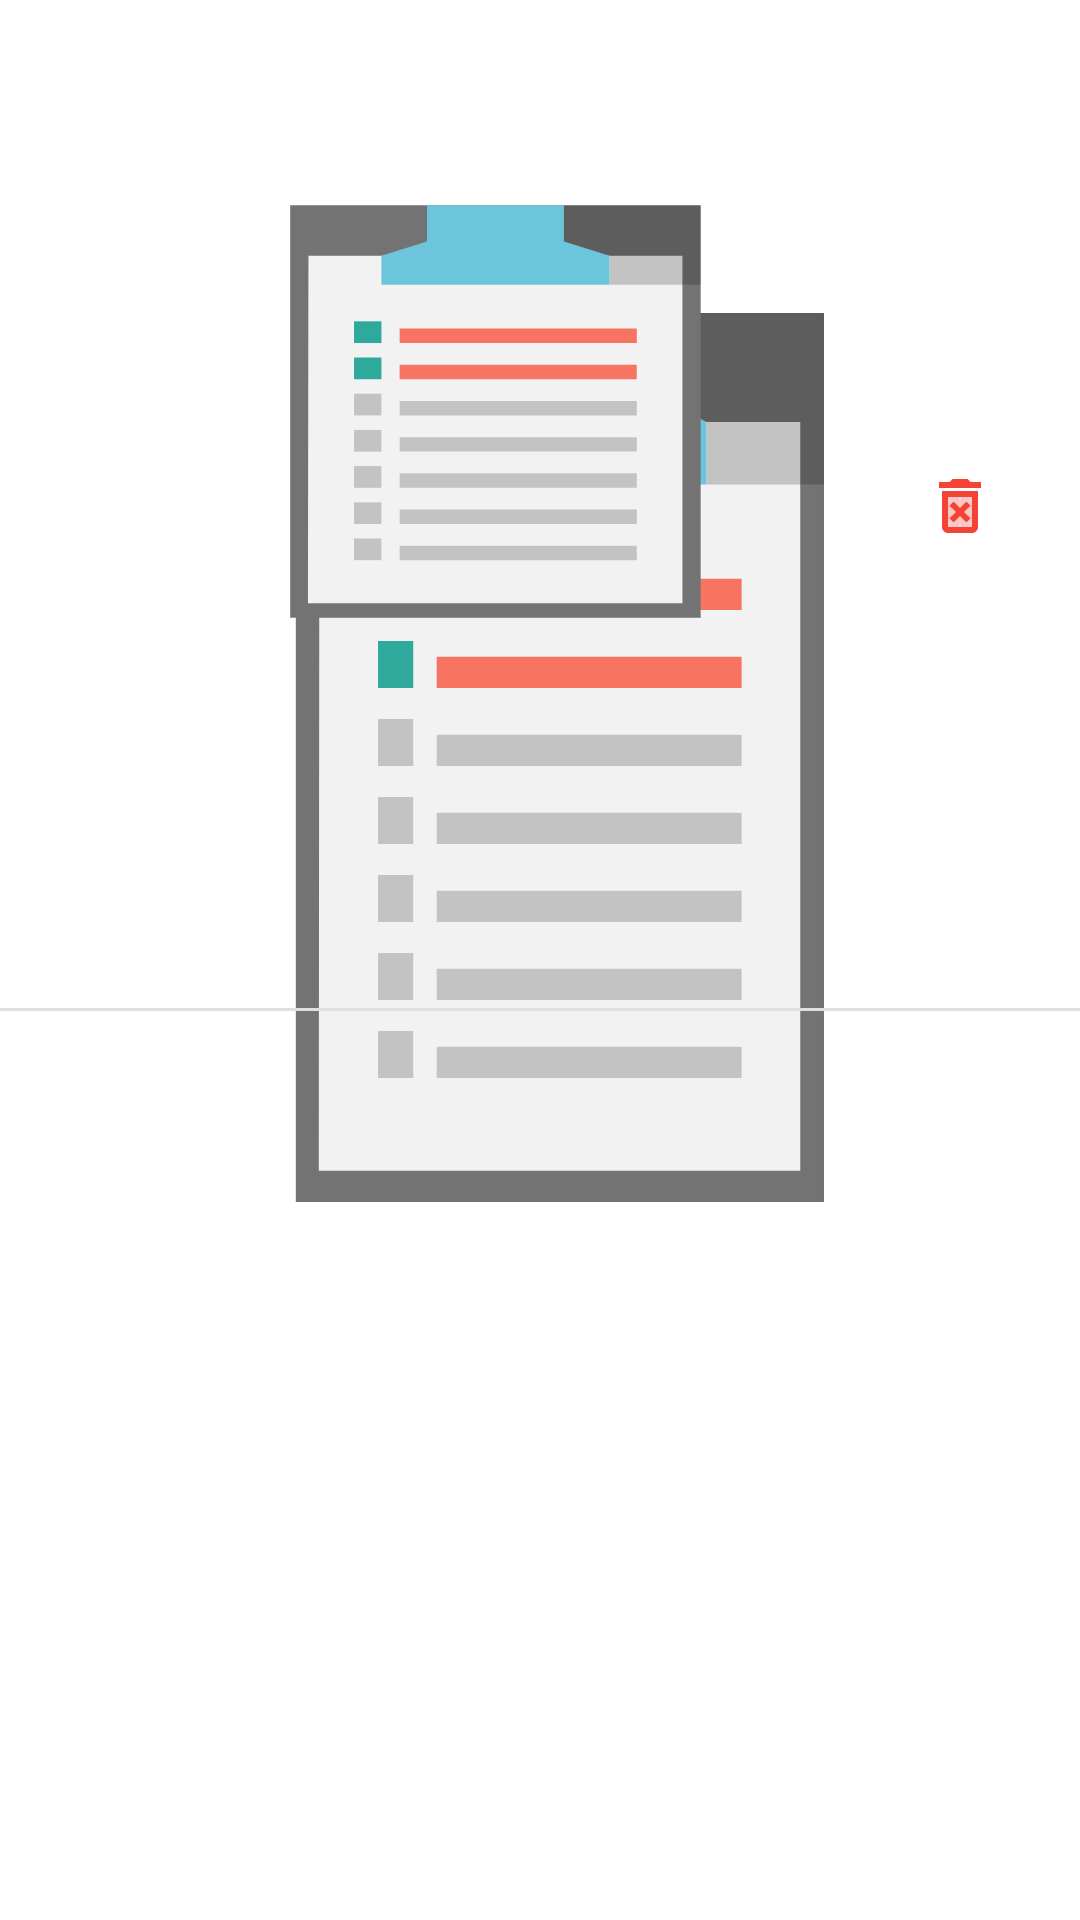

Point at icon controls on the screen. Image size 1080px×1920px, points as (x=x, y=y).
delete: (x=960, y=506)
